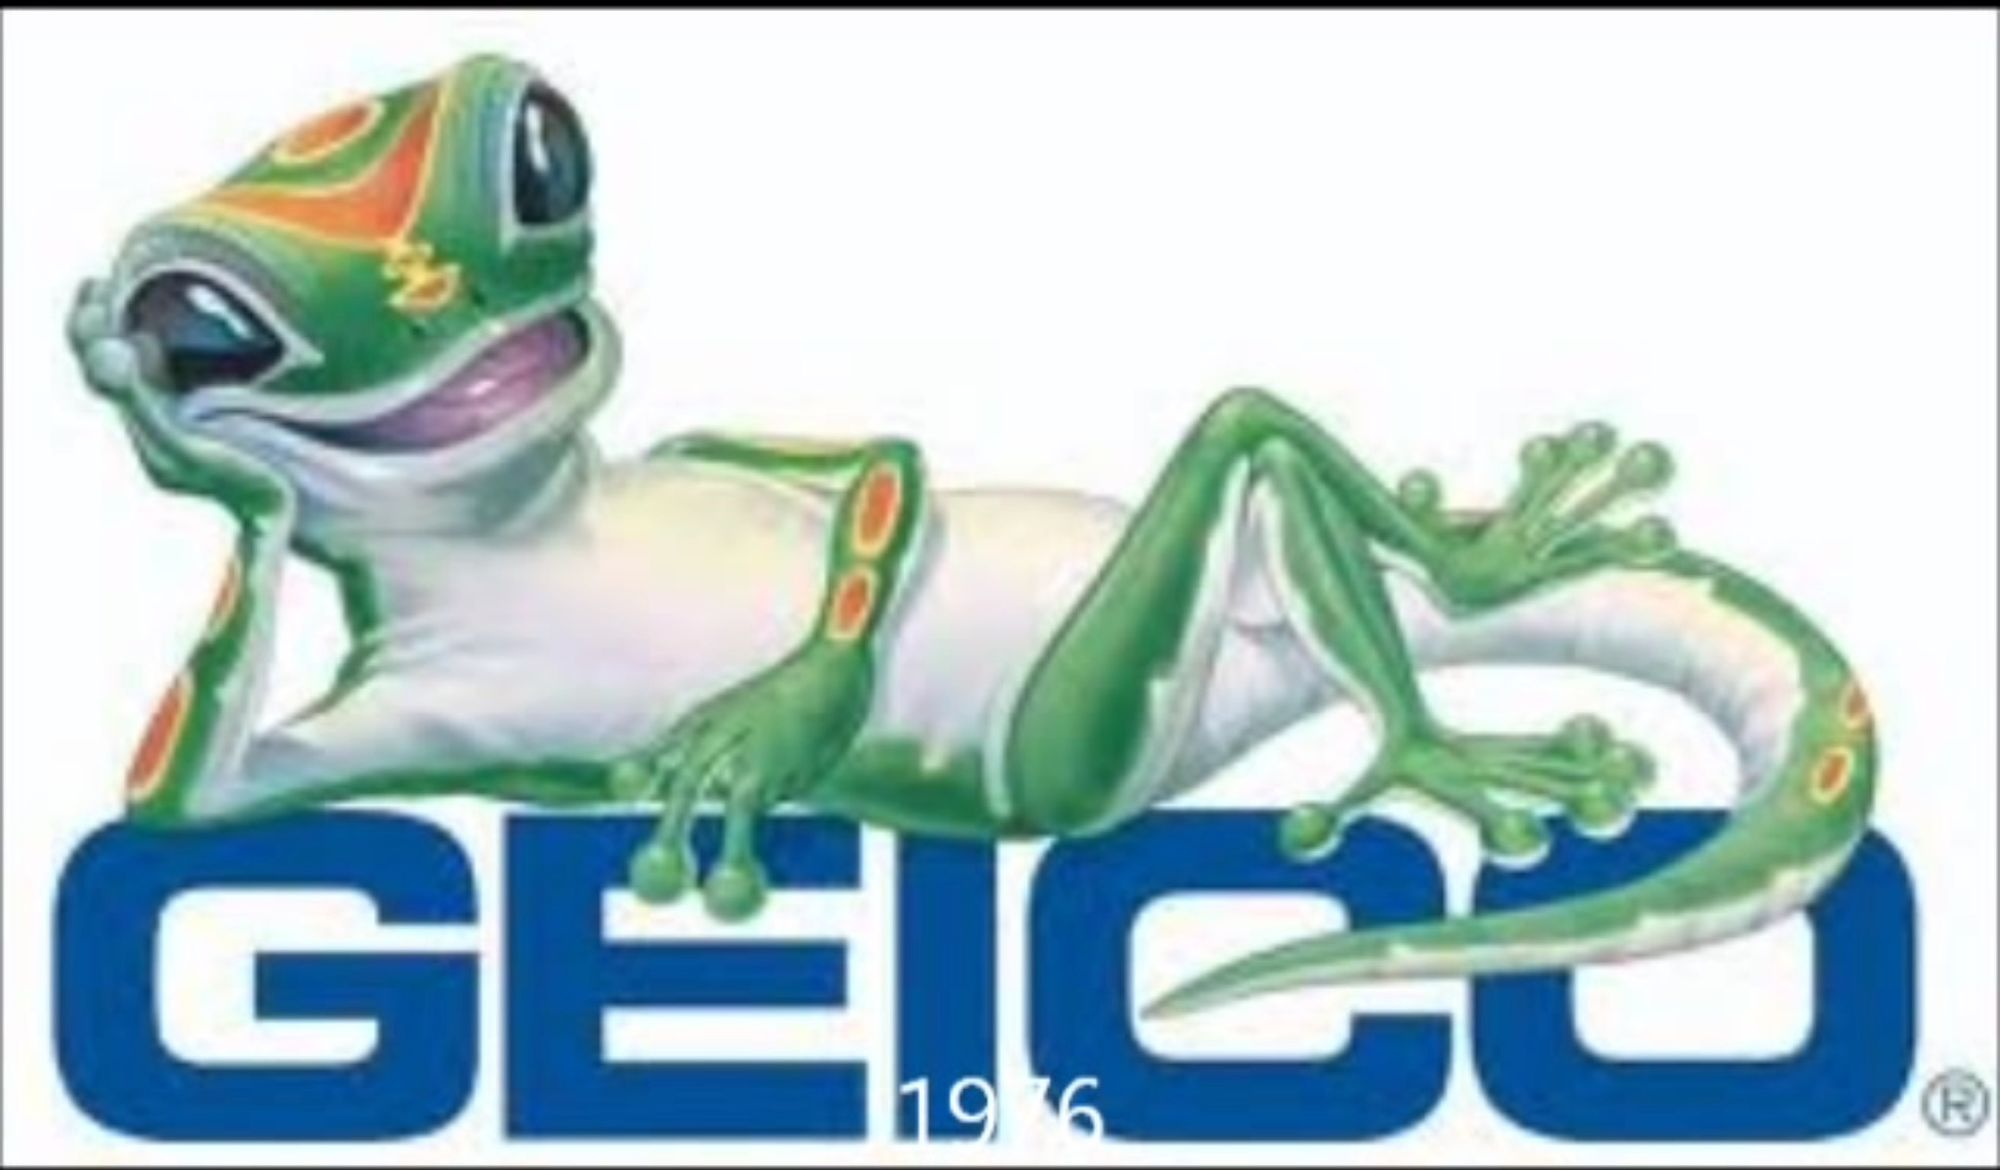Geico: (39, 795, 1930, 1159)
